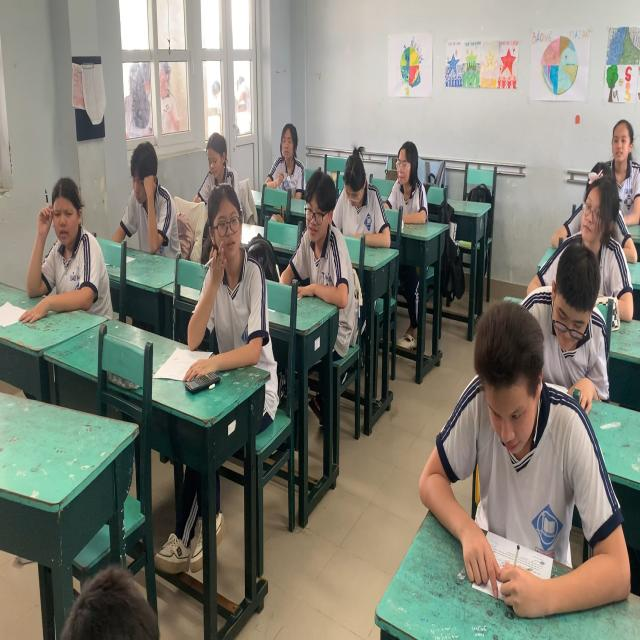cheating: (192, 175, 273, 383), (29, 175, 107, 317)
not_cheating: (427, 297, 585, 597), (533, 243, 620, 402), (570, 172, 637, 314), (292, 167, 355, 304), (124, 139, 181, 255), (334, 152, 398, 251), (378, 139, 432, 231), (601, 108, 640, 225), (266, 115, 306, 201), (201, 125, 237, 196)
